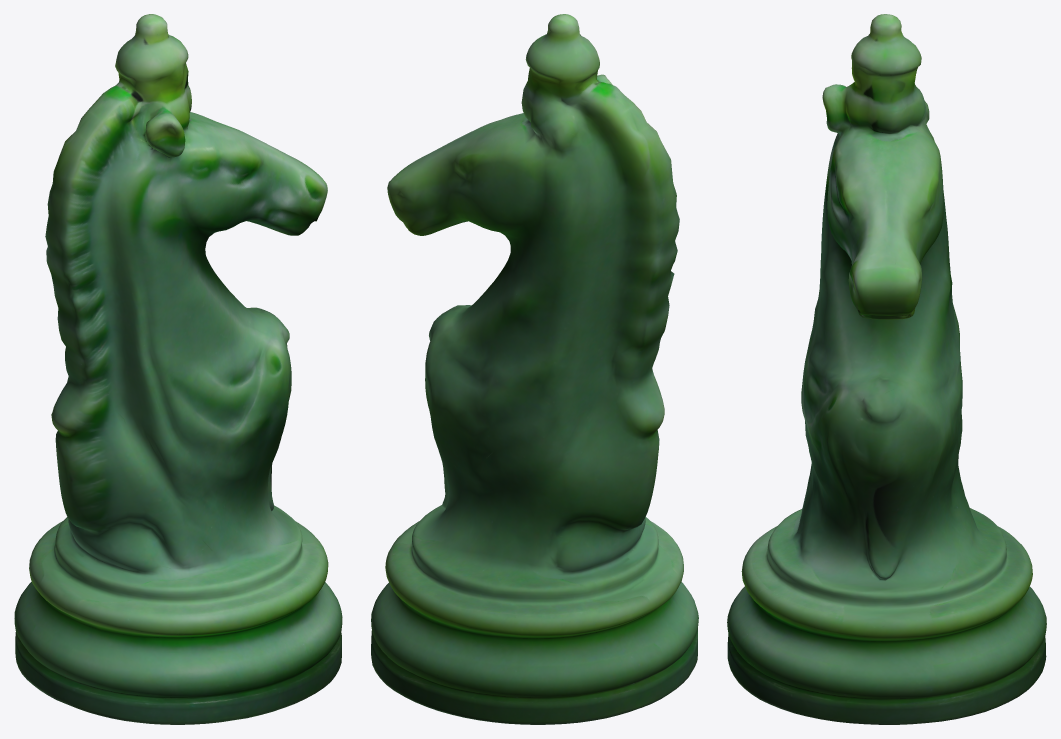
Rendered from chessknight_texture.obj.
The picture shows the model from 3 angles, left to right: view 1: azimuth 30°, elevation 25°; view 2: azimuth 150°, elevation 25°; view 3: azimuth 270°, elevation 25°; orthographic projection. The views are drawn at different scales.
Parts seen in each view (by area): view 1: chessknight_texture; view 2: chessknight_texture; view 3: chessknight_texture.
Part boxes in pixels (x1,y1,x2,y2): chessknight_texture: (14, 14, 342, 724); chessknight_texture: (371, 14, 698, 724); chessknight_texture: (727, 14, 1046, 724).
Bounding box in the file's own units: 0.9154 × 2 × 0.9191.
Materials: 1 (1 with a texture image).
